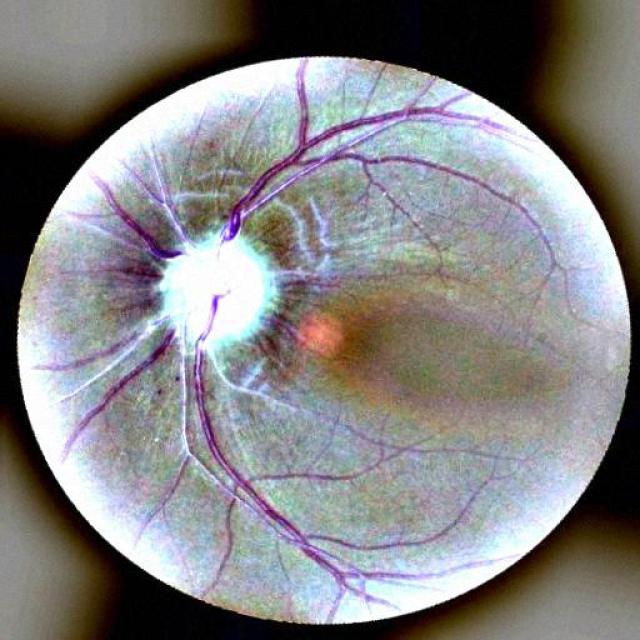Macula: (302, 299, 436, 402)
Nerves: (171, 61, 580, 590)
Optic Disk: (127, 216, 298, 356)
